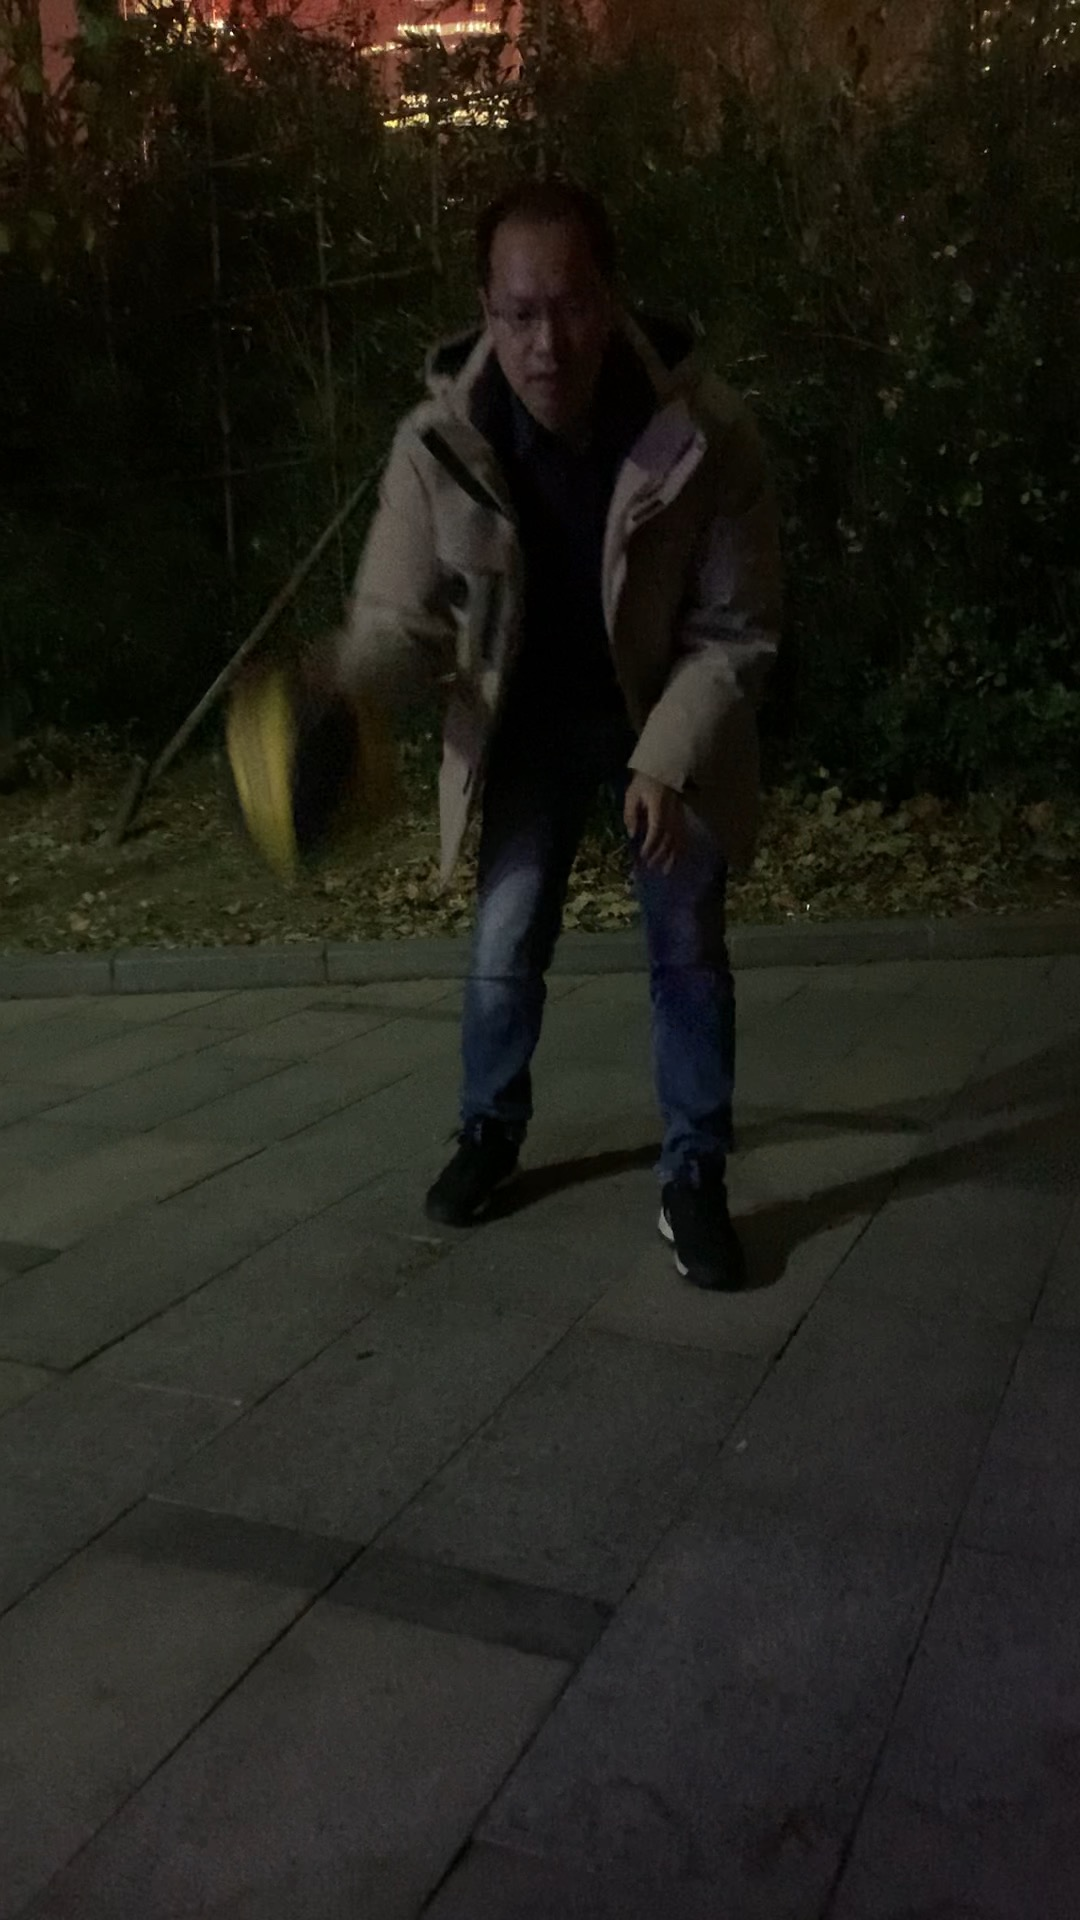ball: (212, 659, 397, 866)
